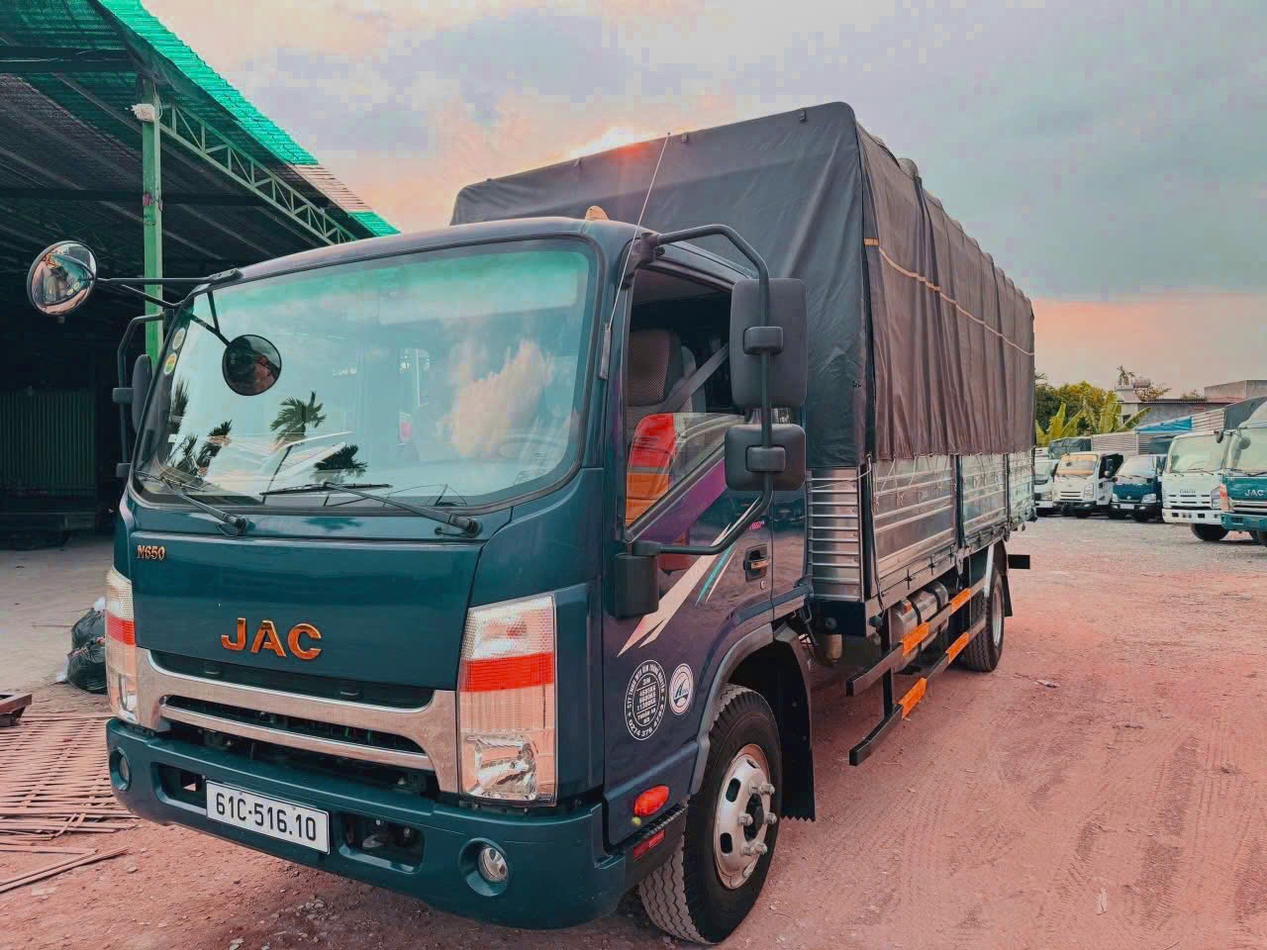Bien-so: (225, 788, 349, 860)
